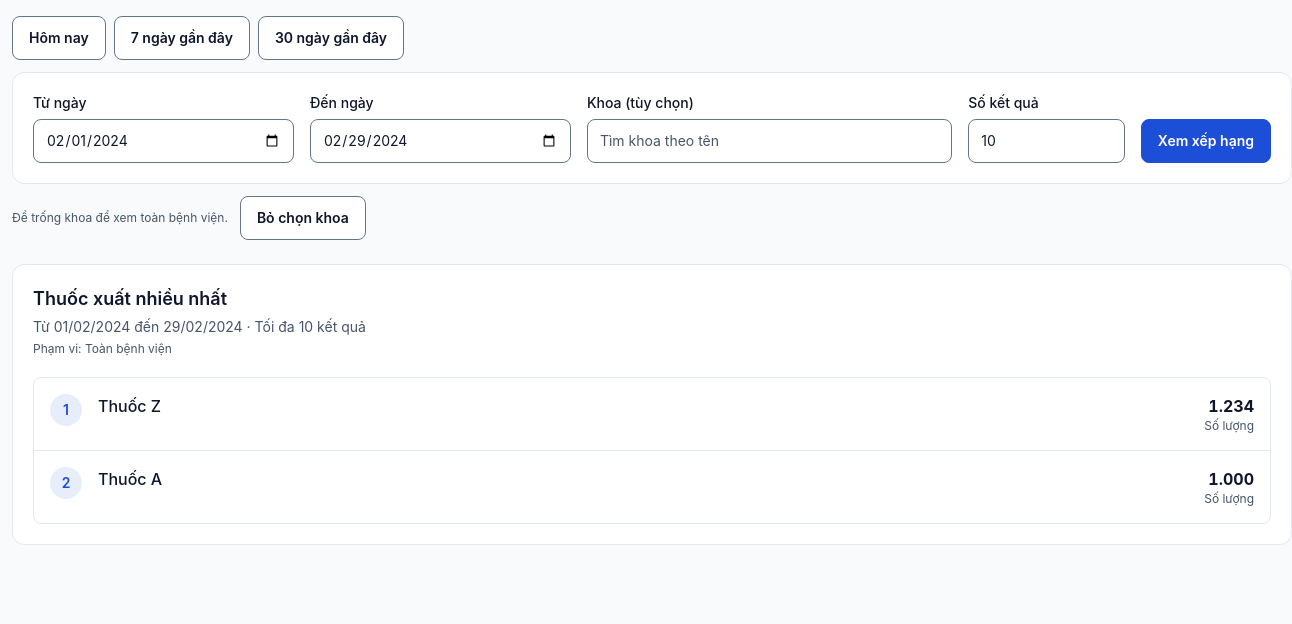
Test case: TopMedicinesView › clears an old ranking on failure and retries the failed submission rather than the new draft
Check: the text "Thuốc Z" is shown, box left=98, top=396, right=161, bottom=416
Type "2024-03-31" into the date field labelled "Đến ngày" at {"x": 440, "y": 141}, box left=310, top=119, right=571, bottom=163
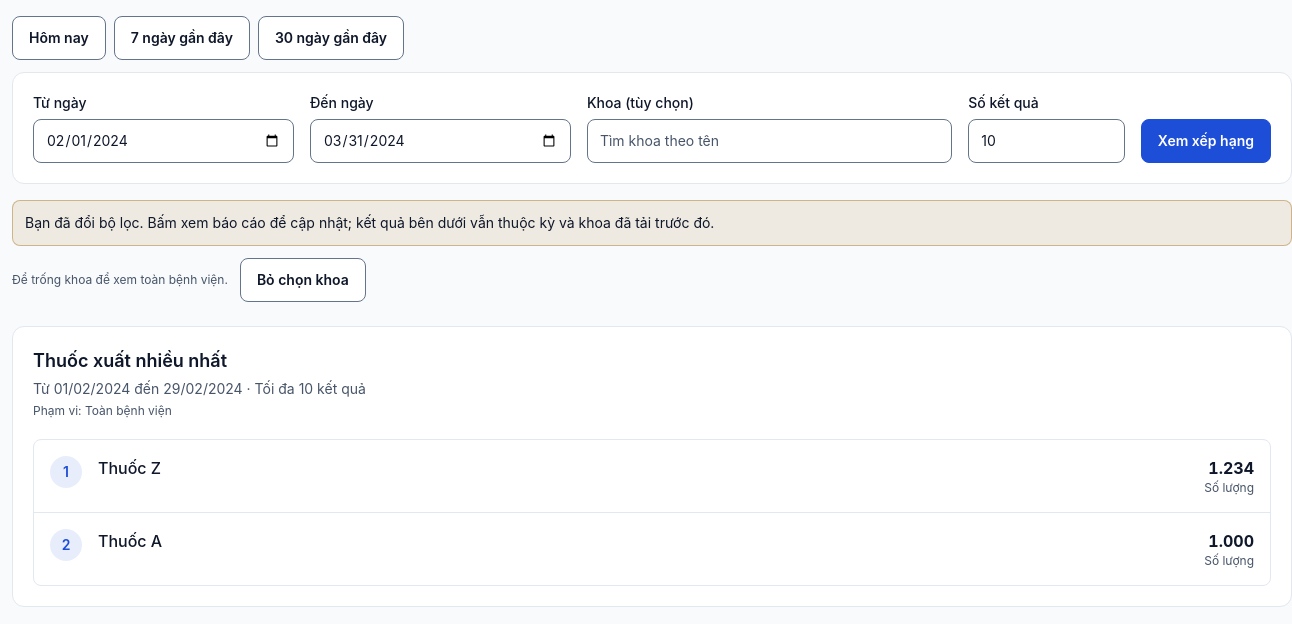
Submit the form labelled "Từ ngày", box left=12, top=72, right=1291, bottom=184
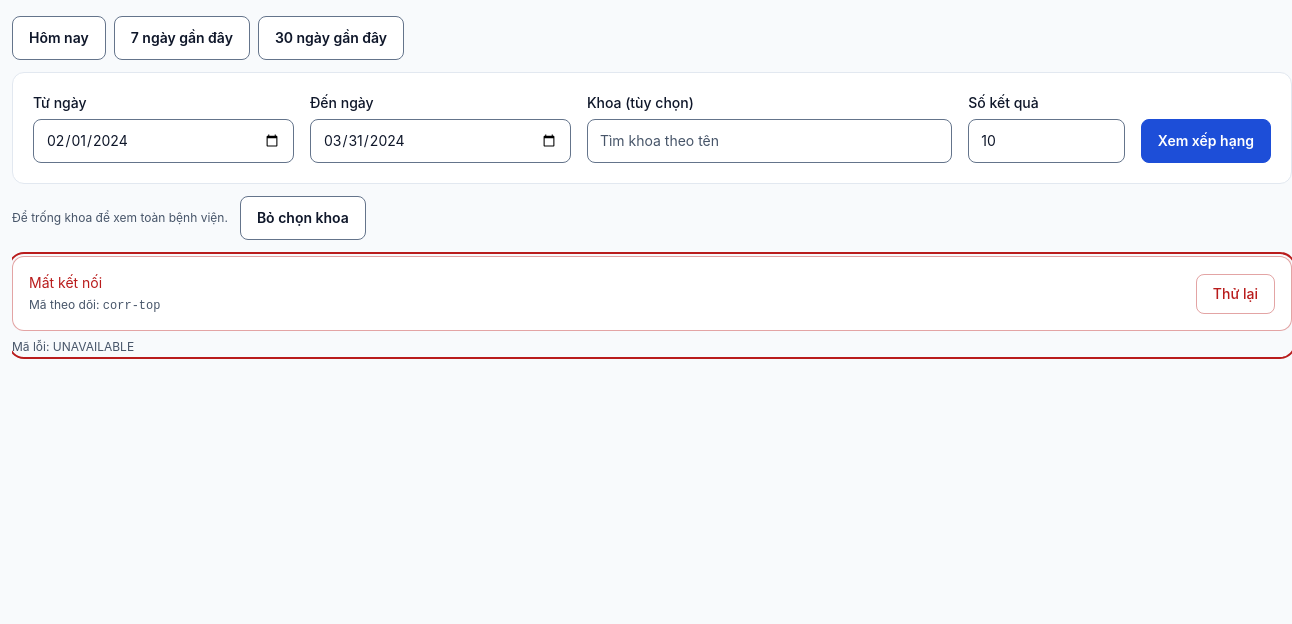
Check: the message shows "corr-top", box left=103, top=299, right=160, bottom=313
Check: the text "Thuốc Z" is gone
Type "2024-04-30" into the date field labelled "Đến ngày" at {"x": 440, "y": 141}, box left=310, top=119, right=571, bottom=163
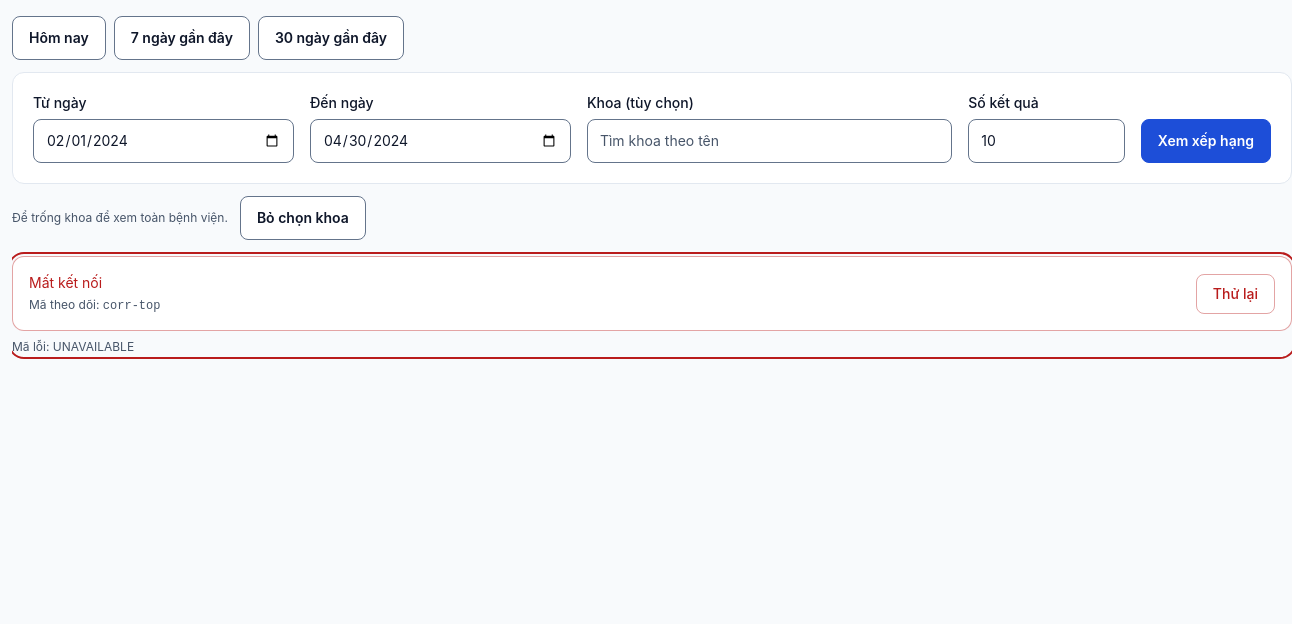
Click the button "Thử lại" at {"x": 1235, "y": 294}, box left=1196, top=274, right=1275, bottom=314
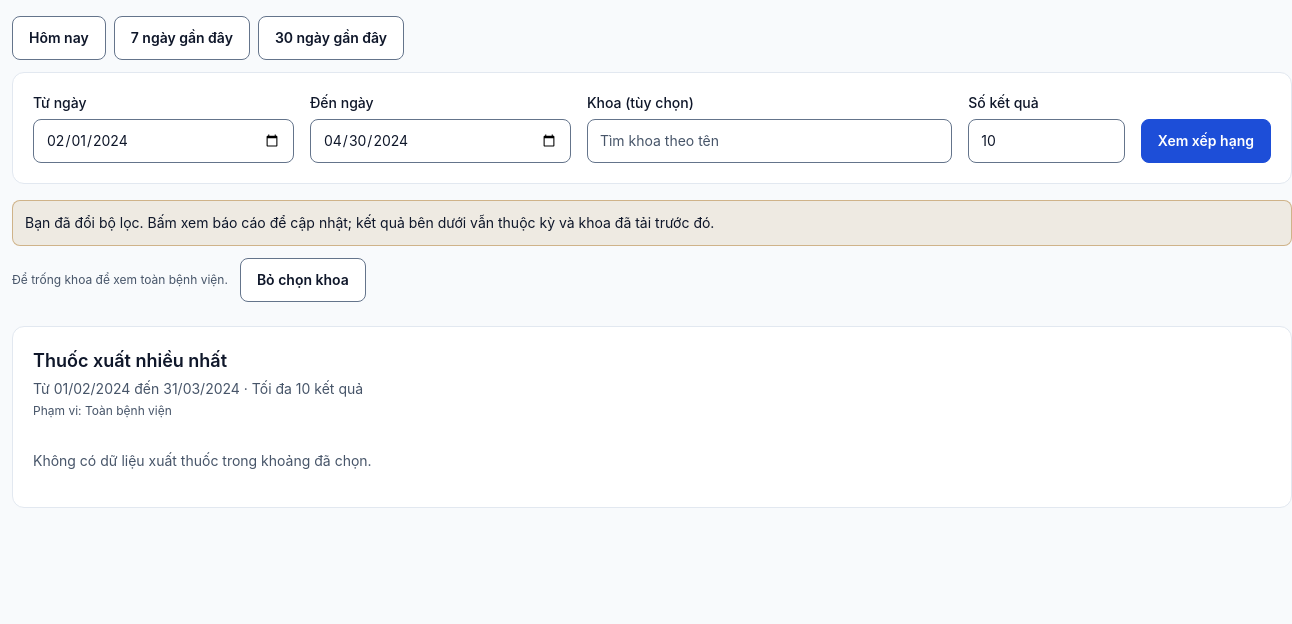
Check: the text "Không có dữ liệu xuất thuốc trong khoảng đã chọn." is shown, box left=33, top=452, right=372, bottom=469
